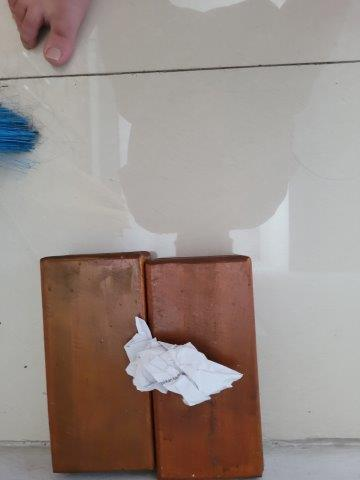kertas: (120, 316, 245, 406)
